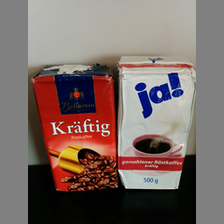coffee: (32, 63, 118, 190), (117, 56, 195, 191)
